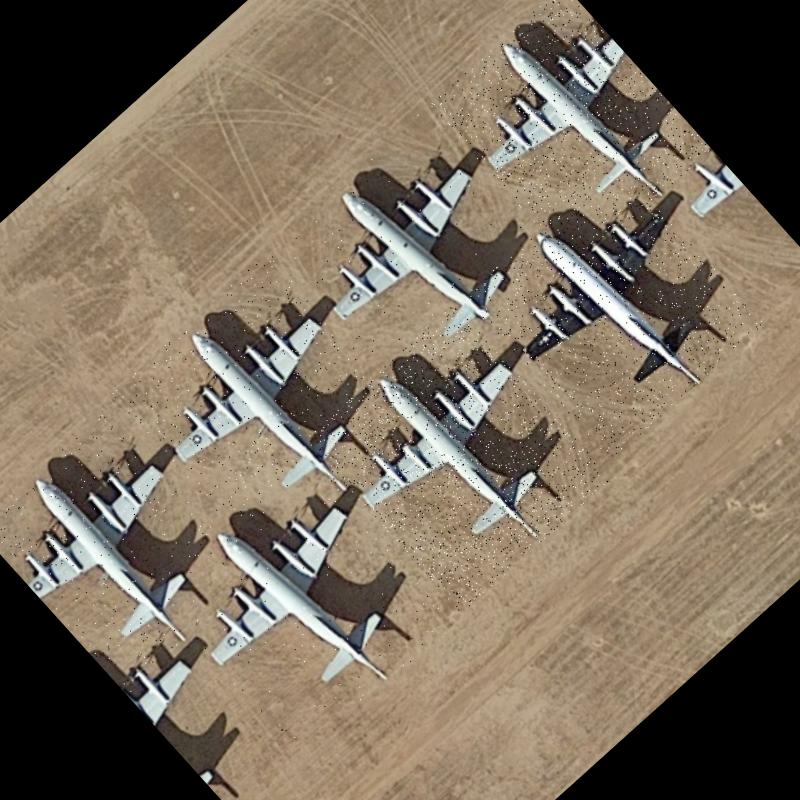A9: (110, 250, 423, 565), (304, 303, 611, 613), (148, 454, 455, 762), (464, 158, 764, 460), (272, 113, 554, 394), (428, 0, 710, 269), (0, 408, 257, 692)
